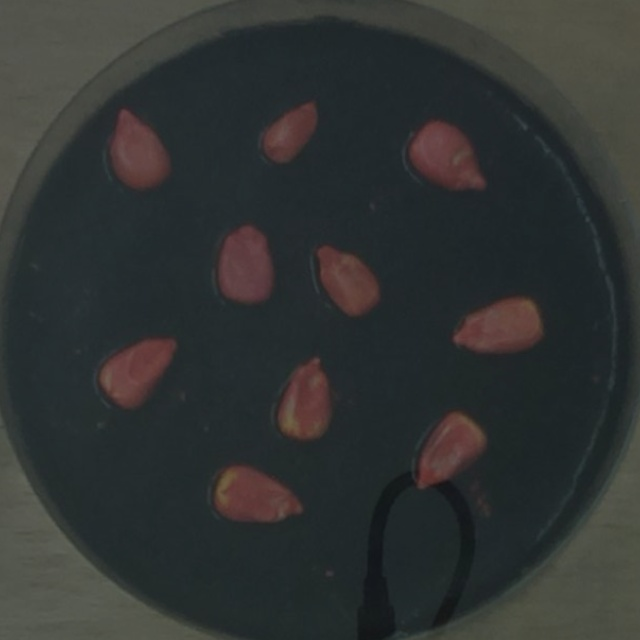Zea mays: (405, 401, 497, 498), (89, 327, 186, 419), (202, 455, 312, 533), (400, 113, 495, 202), (444, 289, 552, 362), (104, 99, 179, 197), (269, 350, 341, 450), (307, 238, 387, 326), (210, 219, 279, 314), (255, 93, 327, 171)
